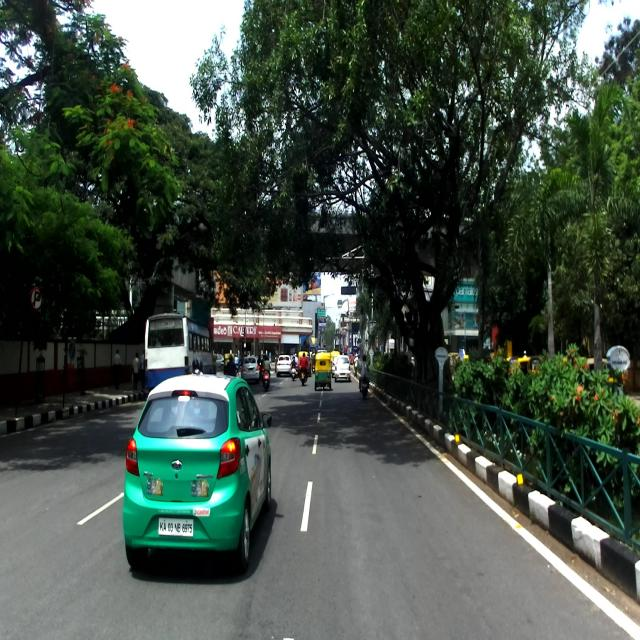Car: (143, 310, 214, 392)
Car_Ford: (122, 373, 272, 575)
Car_Maruti-Suzuki: (241, 355, 260, 385)
Car_TATA: (334, 354, 351, 384)
